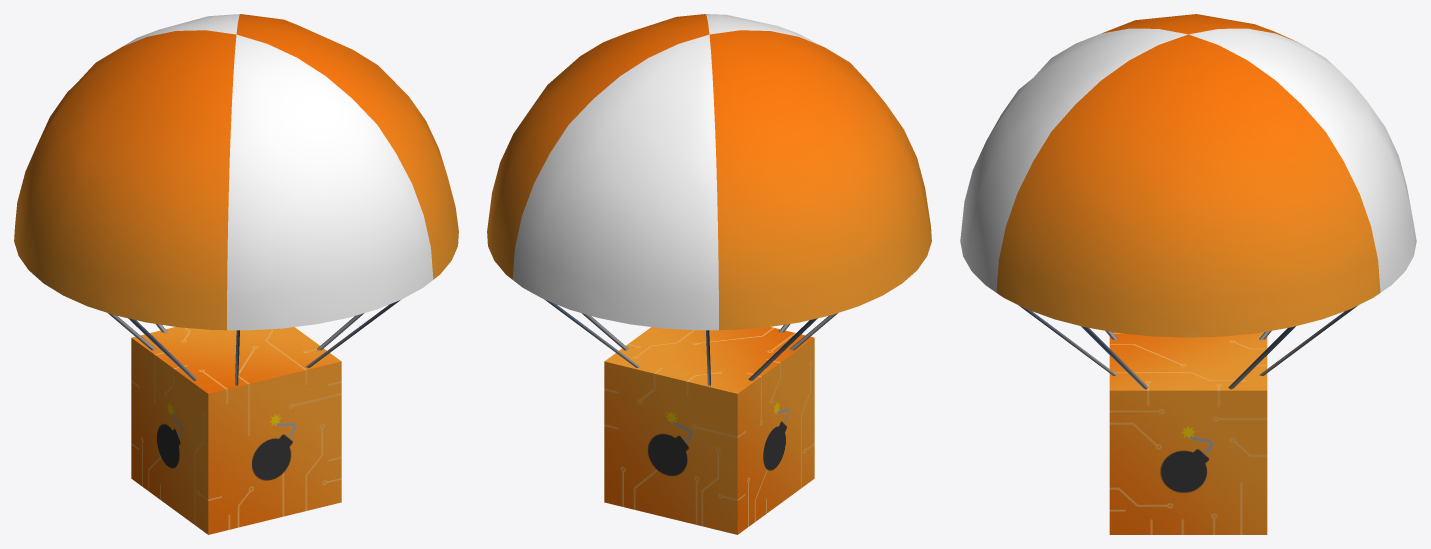
The model's file is Bomb_Clash.FBX.
The picture shows the model from 3 angles, left to right: view 1: azimuth 30°, elevation 25°; view 2: azimuth 150°, elevation 25°; view 3: azimuth 270°, elevation 25°; orthographic projection. The views are drawn at different scales.
Parts seen in each view (by area): view 1: Sphere007, clash baked001, Line040, Line041; view 2: Sphere007, clash baked001, Line042, Line039; view 3: Sphere007, clash baked001, Line040, Line042.
Boxes of the visible parts, box(x1,y1,x2,y2) form: Sphere007: box(14, 14, 458, 330); clash baked001: box(131, 327, 341, 534); Line040: box(305, 300, 400, 367); Line041: box(128, 318, 239, 385); Sphere007: box(487, 14, 931, 330); clash baked001: box(604, 327, 814, 534); Line042: box(545, 300, 640, 367); Line039: box(706, 318, 817, 385); Sphere007: box(960, 14, 1416, 337); clash baked001: box(1109, 332, 1267, 534); Line040: box(1020, 306, 1148, 389); Line042: box(1228, 306, 1356, 389).
Bounding box in the file's own units: 73.02 × 73.02 × 82.47.
Materials: 4 (3 with a texture image).
